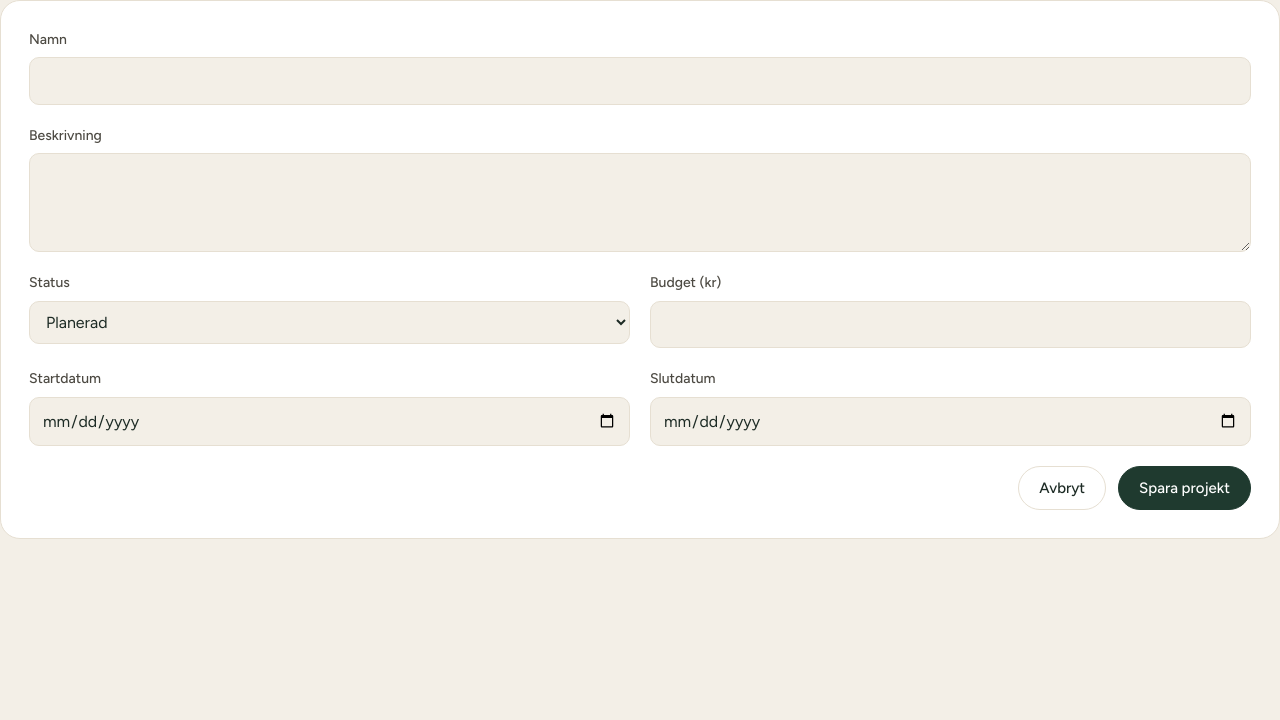
Test case: ProjectForm: new project › shows the error from the server and keeps the input
Type "Altan" into the field labelled "Namn" at (640, 81), box [29,57,1251,105]
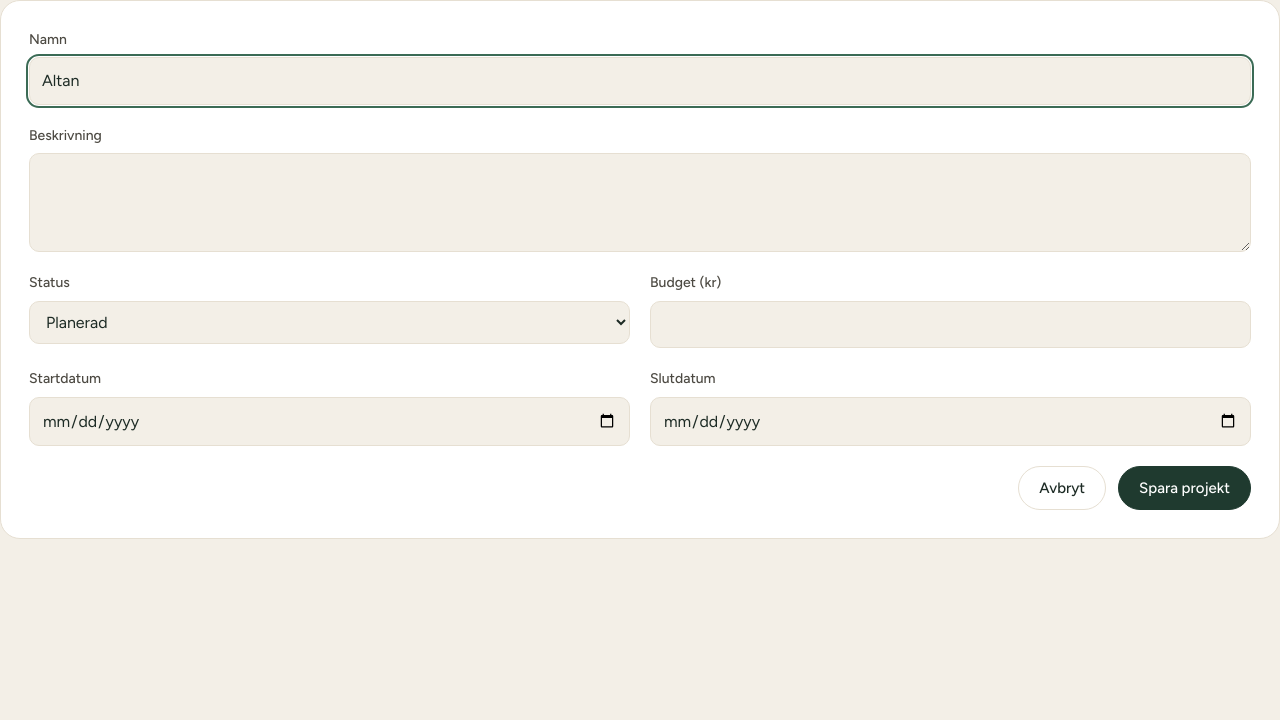
Click the button "Spara projekt" at (1185, 488), box [1118,466,1251,510]
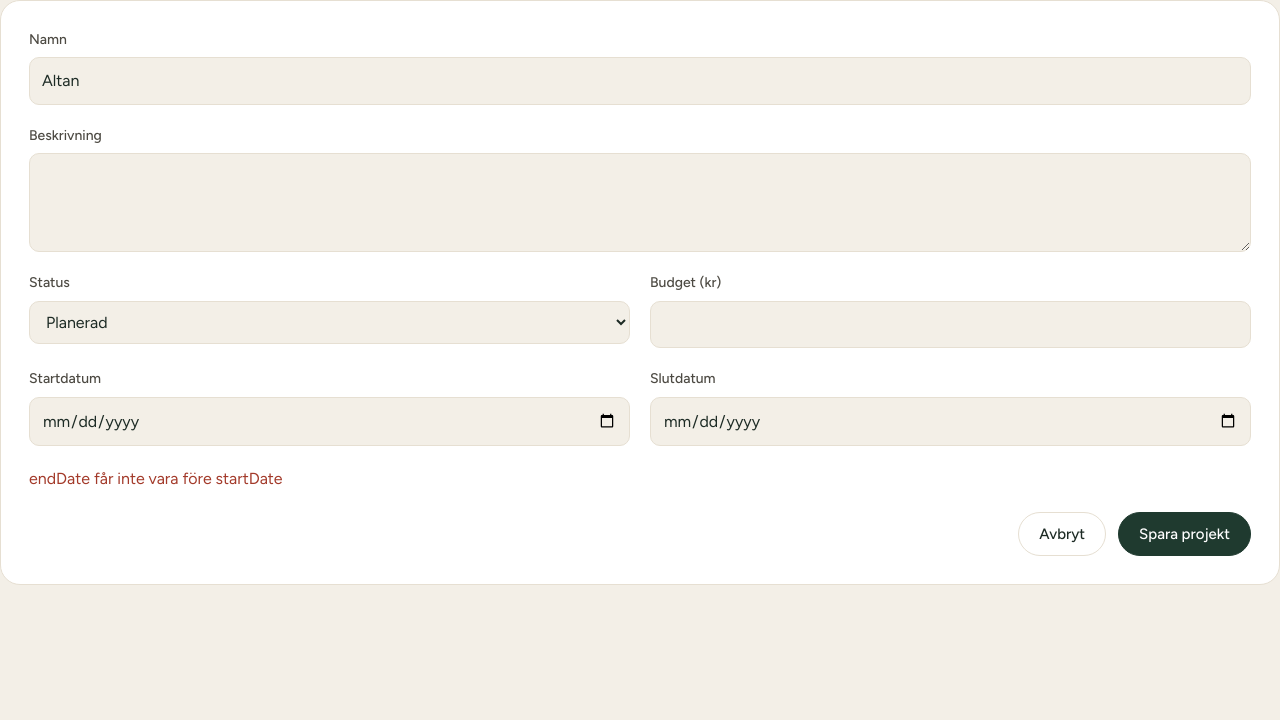
Expected: the message reads "endDate får inte vara före startDate", [29,469,283,488]
